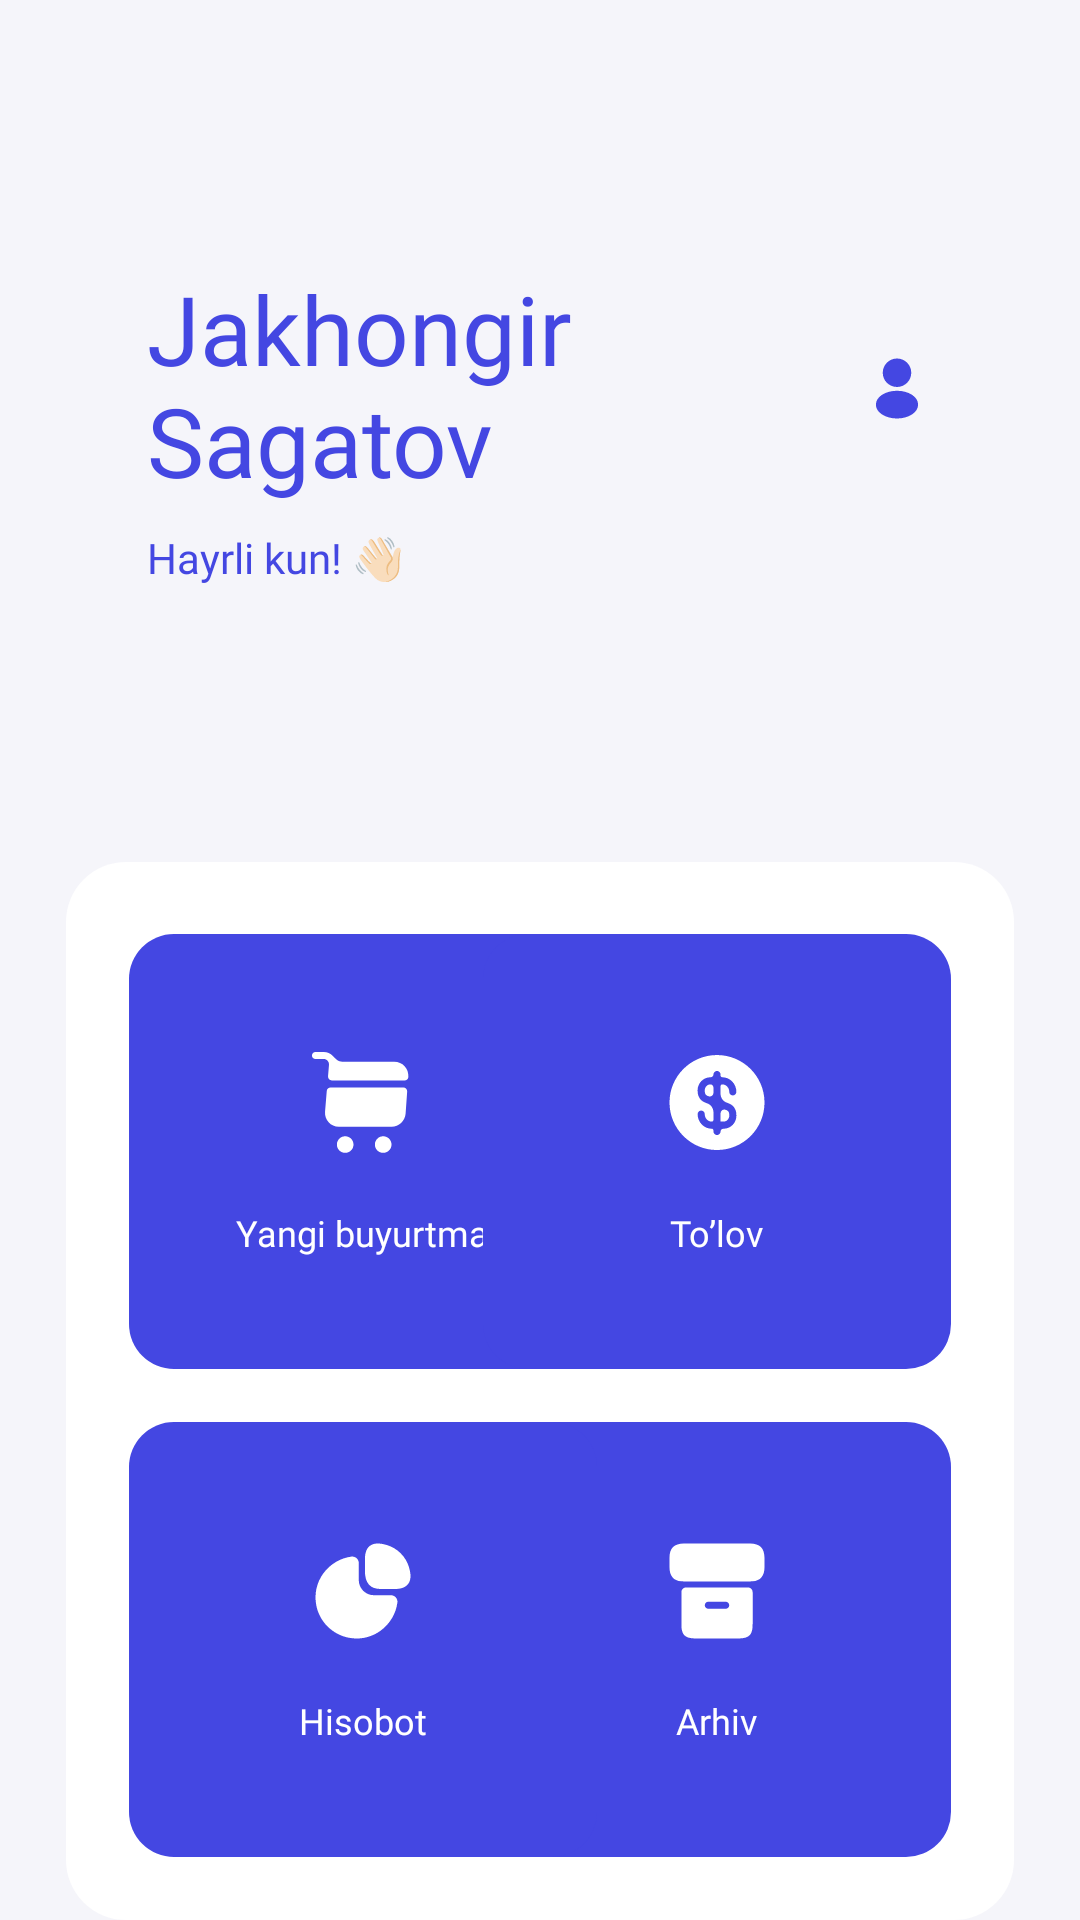

Named icons in this screenshot (1080×1920) and their centers, point (x, y):
archive: point (717, 1591)
dollar circle: point (717, 1102)
frame user: point (897, 388)
graph: point (363, 1591)
shopping cart: point (360, 1102)
